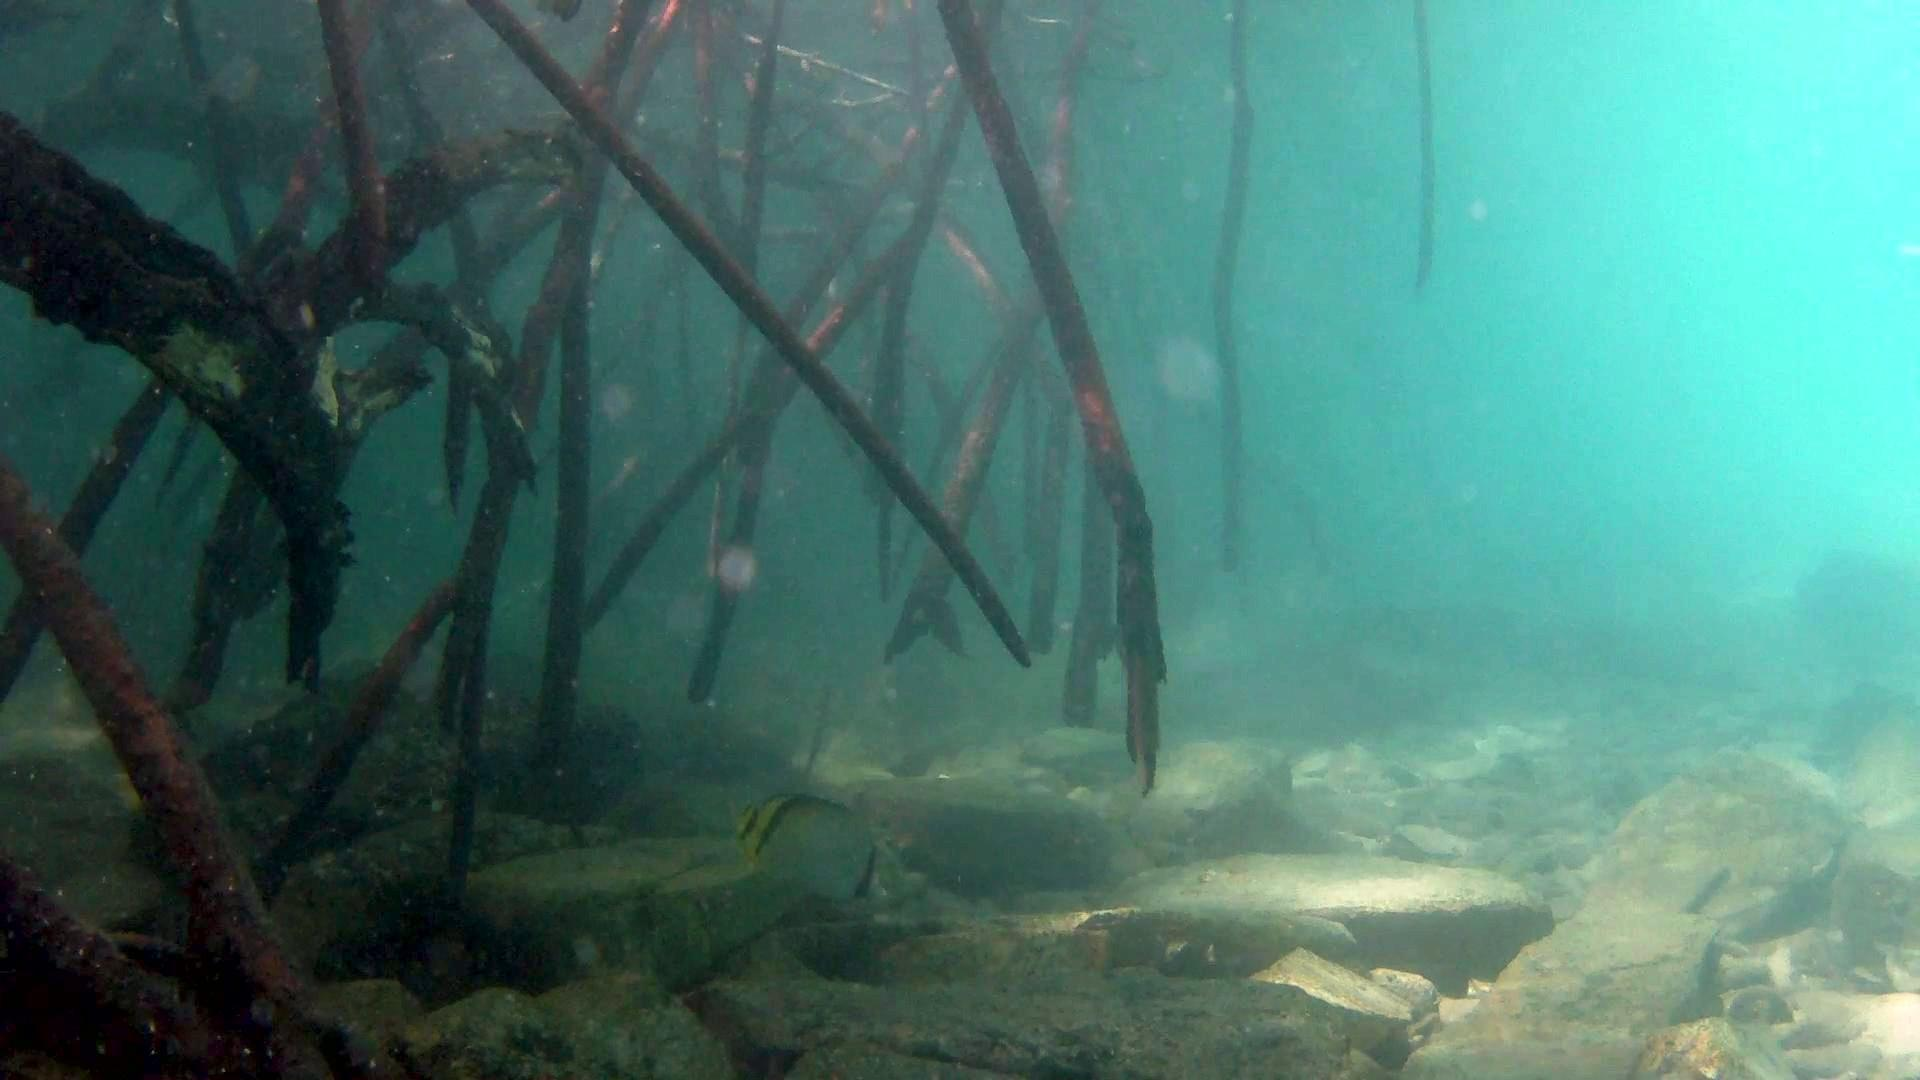chaetodon vagabundus: (731, 789, 892, 912)
